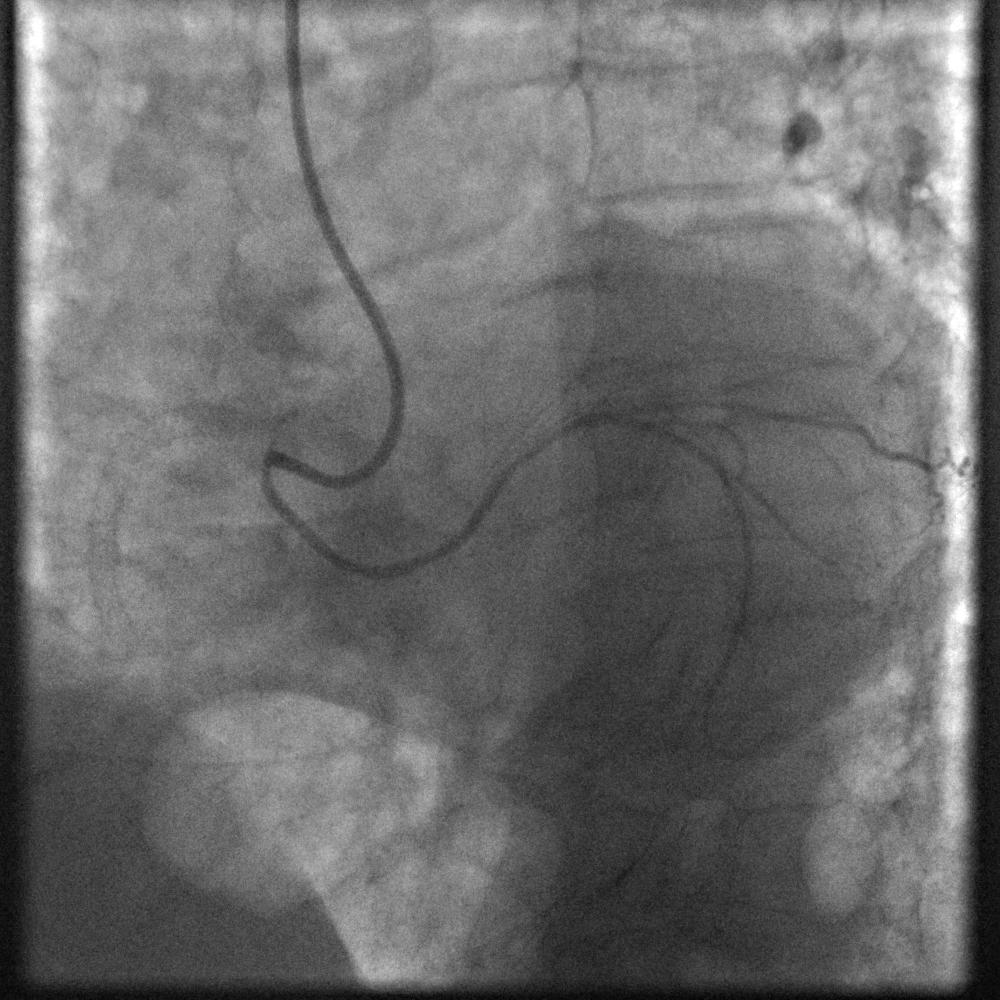Stenosis: (510, 428, 583, 463)
